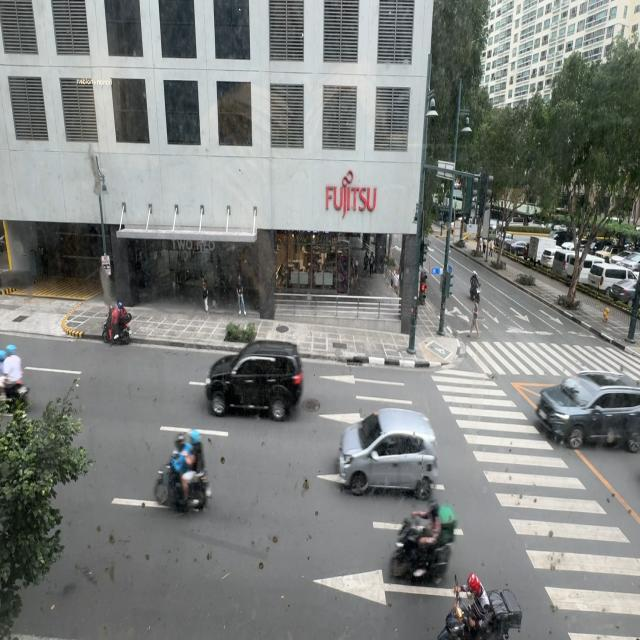jaywalking: (467, 294, 481, 338)
pedestrain: (236, 274, 246, 315), (202, 276, 208, 313)
